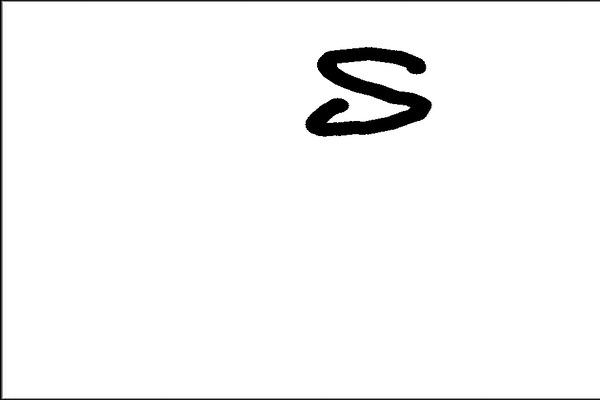S: (298, 40, 441, 143)
